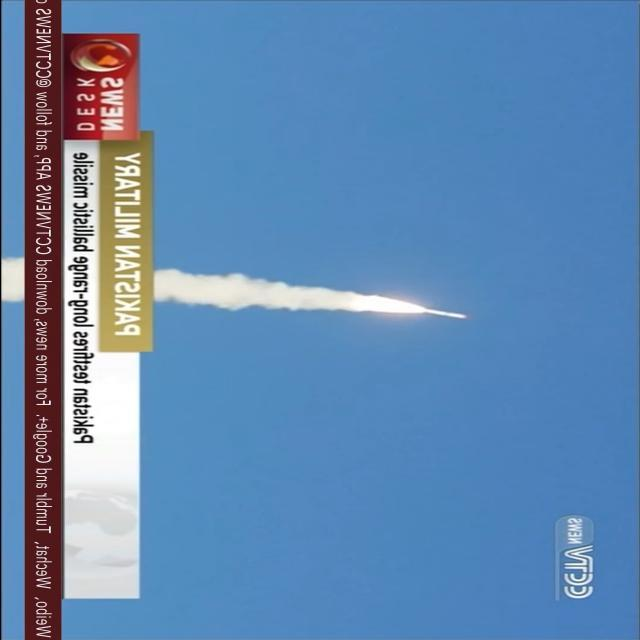missile: (401, 305, 478, 323)
